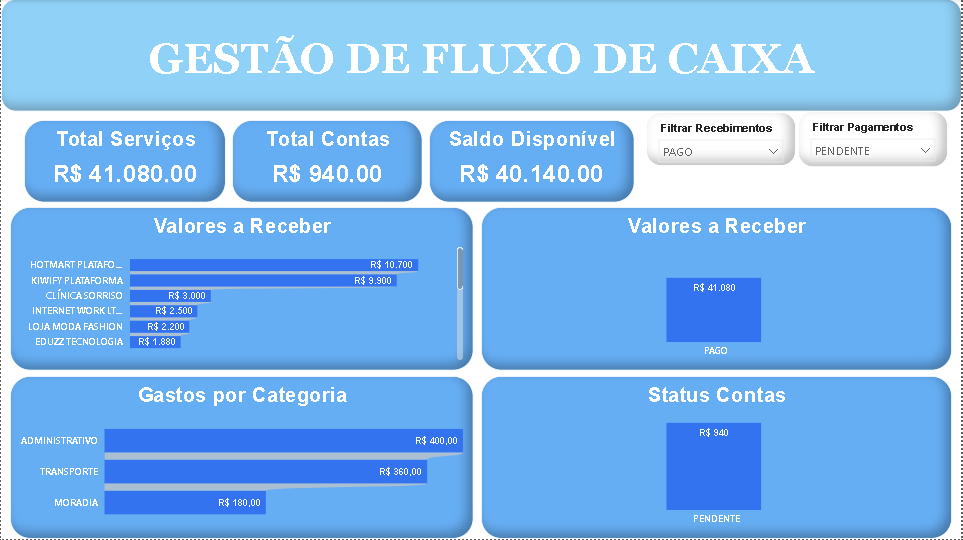

This screenshot's page, from the dashboard's own definition file:
{"tool":"powerbi","page":{"name":"Página 1","canvas":[1280,720],"ordinal":0},"visuals":[{"type":"textbox","box":[0,0,1280.6,150],"z":0},{"type":"barChart","title":"Gastos por Categoria","fields":{"Y":["Sum(CONTAS A PAGAR.VALOR A PAGAR)"],"Category":["CONTAS A PAGAR.CENTRO DE CUSTO"]},"box":[12.5,502.8,618.1,216.7],"z":1000},{"type":"columnChart","title":"Status Contas","fields":{"Category":["CONTAS A PAGAR.STATUS"],"Y":["Sum(CONTAS A PAGAR.VALOR A PAGAR)"]},"box":[640.3,502.8,627.8,216.7],"z":2000},{"type":"barChart","title":"Valores a Receber","fields":{"Category":["CONTAS A RECEBER.CLIENTE "],"Y":["Sum(CONTAS A RECEBER.VALOR A RECEBER)"]},"box":[12.5,277.8,618.1,218.1],"z":3000},{"type":"columnChart","title":"Valores a Receber","fields":{"Category":["CONTAS A RECEBER.STATUS"],"Y":["Sum(CONTAS A RECEBER.VALOR A RECEBER)"]},"box":[640.3,277.8,627.8,218.1],"z":4000},{"type":"cardVisual","title":"Total Contas","fields":{"Data":["Sum(CONTAS A PAGAR.VALOR A PAGAR)"]},"box":[308.3,161.1,254.2,109.7],"z":7000},{"type":"cardVisual","title":"Total Serviços","fields":{"Data":["Sum(CONTAS A RECEBER.VALOR A RECEBER)"]},"box":[30.6,161.1,269.4,109.7],"z":8000},{"type":"cardVisual","title":"Saldo Disponível","fields":{"Data":["CONTAS A RECEBER.Saldo"]},"box":[570.8,161.1,273.6,109.7],"z":9000},{"type":"slicer","fields":{"Values":["CONTAS A RECEBER.STATUS","CONTAS A RECEBER.DATA DE PAGAMENTO .Variation.Hierarquia de datas.Mês"]},"box":[859.7,150,200,72.2],"z":9500},{"type":"slicer","fields":{"Values":["CONTAS A PAGAR.STATUS","CONTAS A PAGAR.DATA DE VENCIMENTO .Variation.Hierarquia de datas.Mês"]},"box":[1062.7,149.3,200,74.7],"z":10000}]}

Visuals, with their boxes in screenshot pixels (x1, y1, x2, y2), scaled from the page's 1280x720 canvas onto the 963x540 screenshot:
textbox: [x1=0, y1=0, x2=962, y2=112]
"Gastos por Categoria" barChart: [x1=9, y1=377, x2=474, y2=539]
"Status Contas" columnChart: [x1=482, y1=377, x2=954, y2=539]
"Valores a Receber" barChart: [x1=9, y1=208, x2=474, y2=372]
"Valores a Receber" columnChart: [x1=482, y1=208, x2=954, y2=372]
"Total Contas" cardVisual: [x1=232, y1=121, x2=423, y2=203]
"Total Serviços" cardVisual: [x1=23, y1=121, x2=226, y2=203]
"Saldo Disponível" cardVisual: [x1=429, y1=121, x2=635, y2=203]
slicer - CONTAS A RECEBER.STATUS x CONTAS A RECEBER.DATA DE PAGAMENTO .Variation.Hierarquia de datas.Mês: [x1=647, y1=112, x2=797, y2=167]
slicer - CONTAS A PAGAR.STATUS x CONTAS A PAGAR.DATA DE VENCIMENTO .Variation.Hierarquia de datas.Mês: [x1=800, y1=112, x2=950, y2=168]
